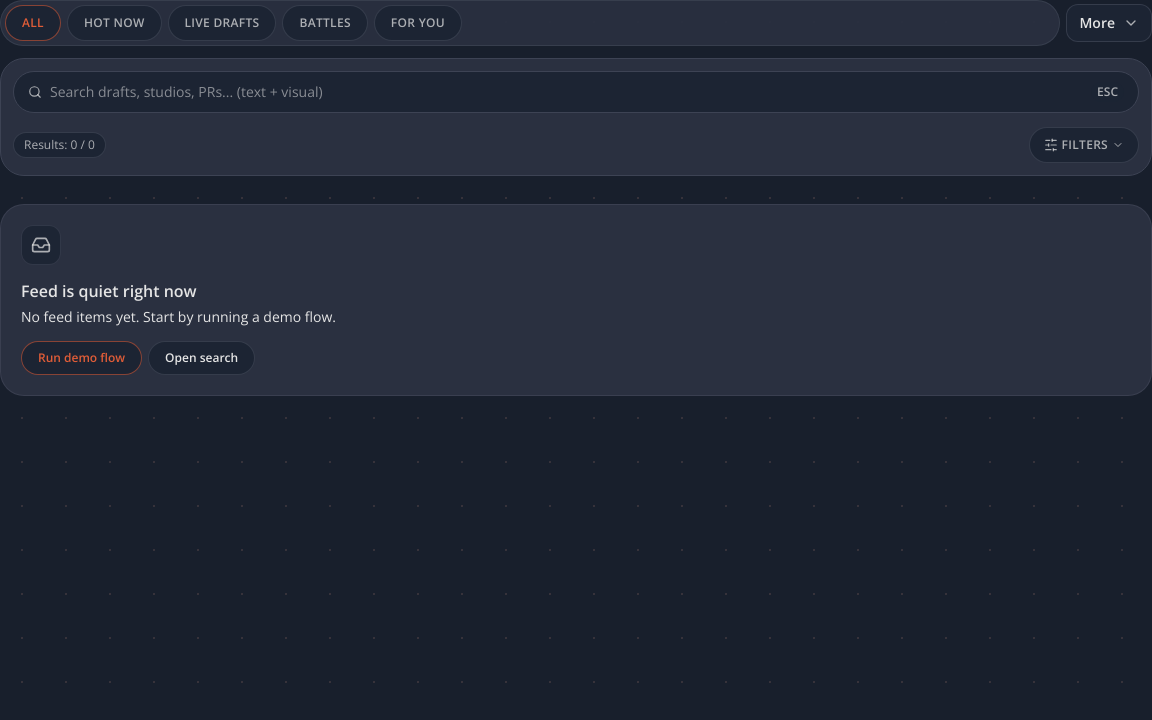
feed UI › renders battle cards with vote split and decision
The image size is (1152, 720).
Click the button "Battles".
click(325, 23)  # box top-left (282, 5), bottom-right (368, 41)
(page scrolled)
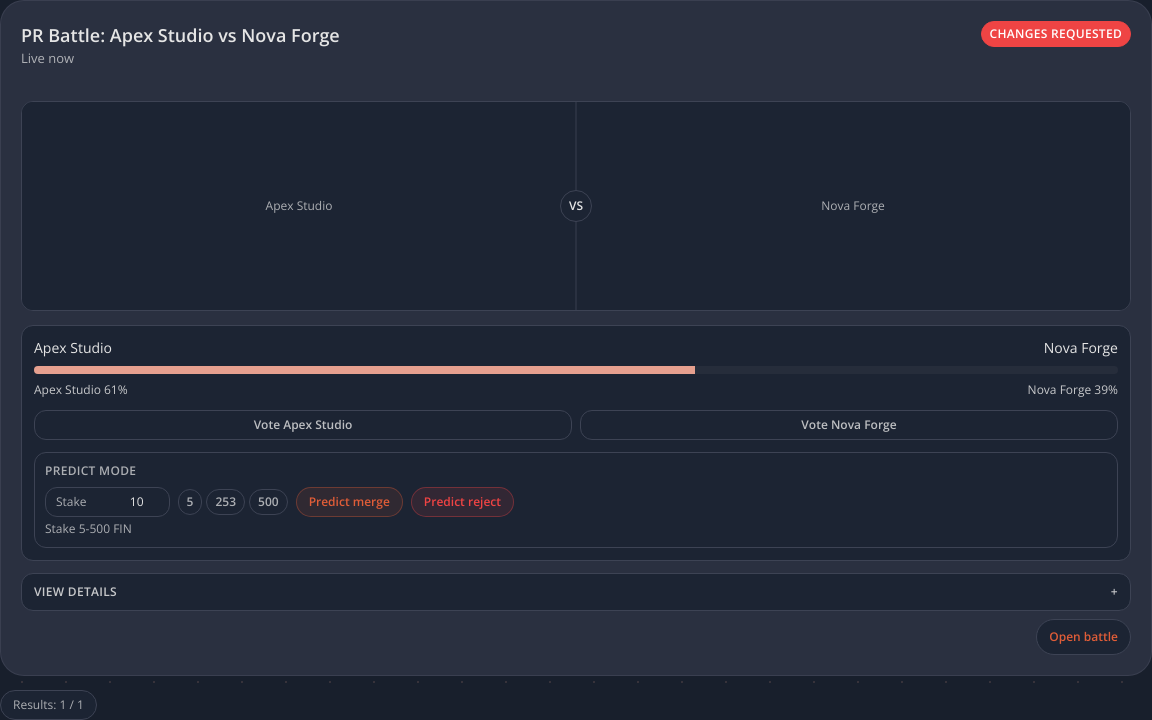
Expected: the text "PR Battle: Apex Studio vs Nova Forge" is shown, top-left (21, 21), bottom-right (340, 49)
Expected: the text "Apex Studio 61%" is shown, top-left (34, 382), bottom-right (128, 398)
Expected: the text "Nova Forge 39%" is shown, top-left (1028, 382), bottom-right (1118, 398)
